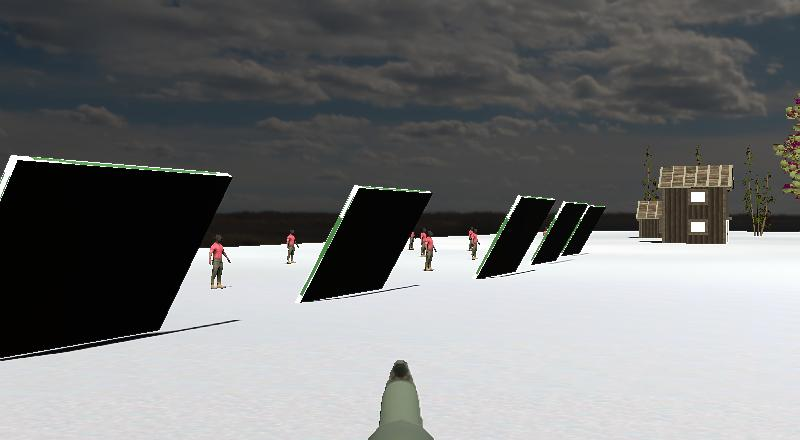House: (645, 147, 742, 266), (631, 191, 670, 247)
Human: (202, 229, 239, 297), (418, 228, 443, 278), (281, 223, 305, 272), (462, 221, 485, 267)
